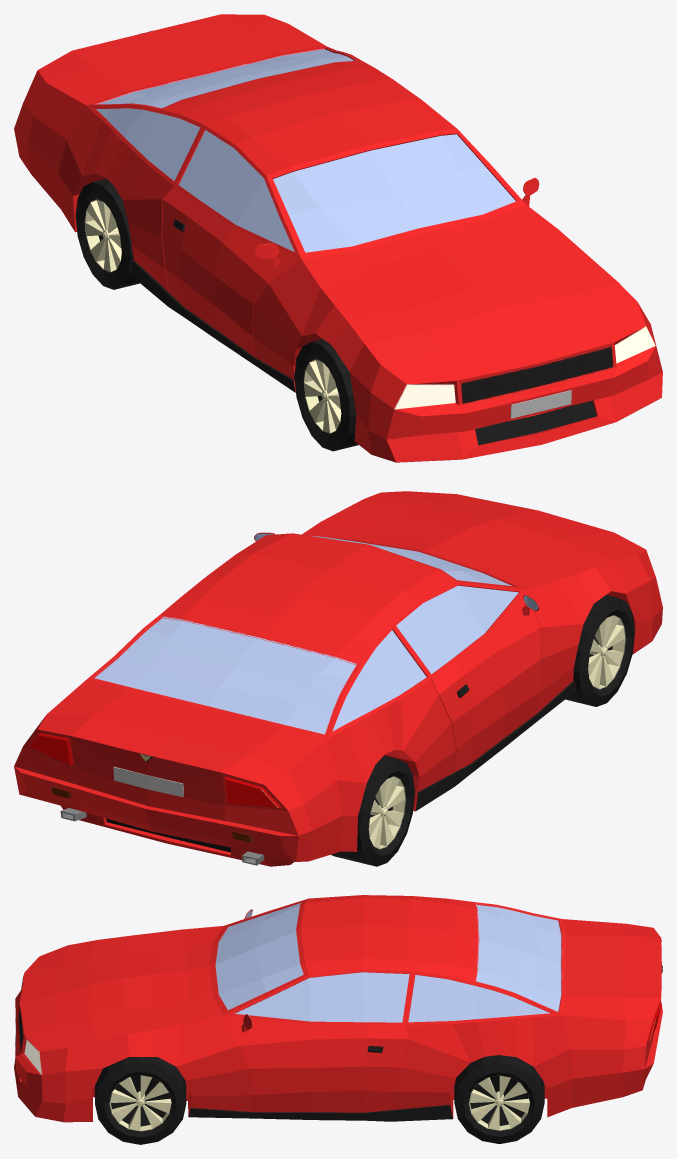
The model's file is car.glb.
The picture shows the model from 3 angles, top to bottom: view 1: azimuth 30°, elevation 25°; view 2: azimuth 150°, elevation 25°; view 3: azimuth 270°, elevation 25°; orthographic projection. The views are drawn at different scales.
Visible parts, largest first — view 1: car; view 2: car; view 3: car.
Part boxes in pixels (<box>): car: <box>14,14,662,462</box>; car: <box>14,491,662,866</box>; car: <box>14,895,662,1144</box>.
Bounding box in the file's own units: 230 × 149 × 540.
1 material, 1 textured.
